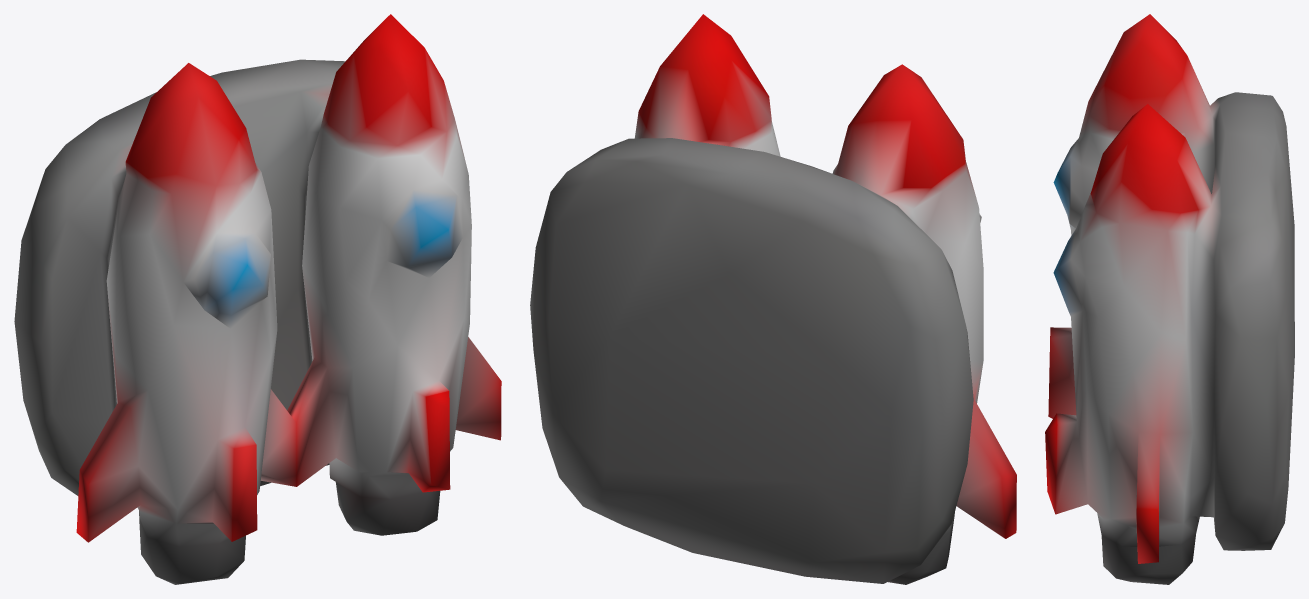
The model's file is acc_backpack.glb.
3 views of the same model, side by side, from view 1: azimuth 30°, elevation 25°; view 2: azimuth 150°, elevation 25°; view 3: azimuth 270°, elevation 25° (orthographic). The views are drawn at different scales.
Parts seen in each view (by area): view 1: geometry_0; view 2: geometry_0; view 3: geometry_0.
Part boxes in pixels (<box>): geometry_0: <box>14,14,501,584</box>; geometry_0: <box>530,14,1016,584</box>; geometry_0: <box>1045,14,1294,584</box>.
Size of the model in its own units: 0.4099 by 0.48 by 0.2294.
